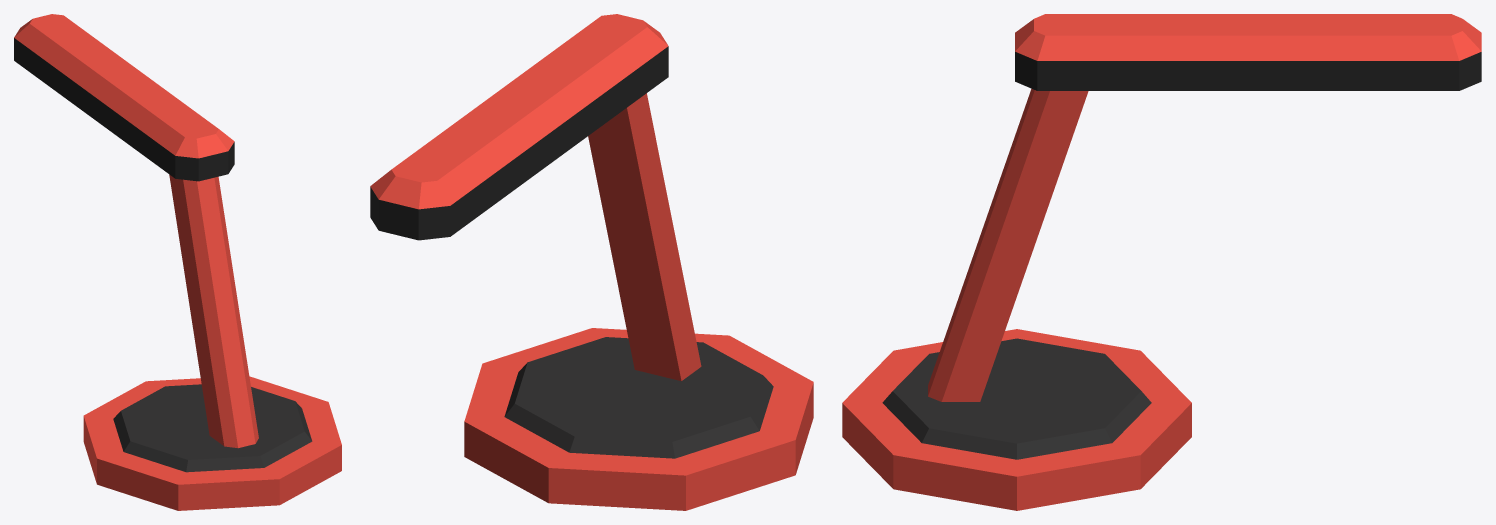
Rendered from flexo.glb.
3 renders of one model, left to right at view 1: azimuth 30°, elevation 25°; view 2: azimuth 150°, elevation 25°; view 3: azimuth 270°, elevation 25°, orthographic. The views are drawn at different scales.
Visible parts, largest first — view 1: mesh_tech_flexo_01; view 2: mesh_tech_flexo_01; view 3: mesh_tech_flexo_01.
Boxes of the visible parts, x1,y1,x2,y2 form: mesh_tech_flexo_01: [14, 14, 341, 510]; mesh_tech_flexo_01: [370, 14, 813, 510]; mesh_tech_flexo_01: [842, 14, 1481, 510].
Bounding box in the file's own units: 0.2678 × 0.3483 × 0.4897.
1 material, 1 textured.
